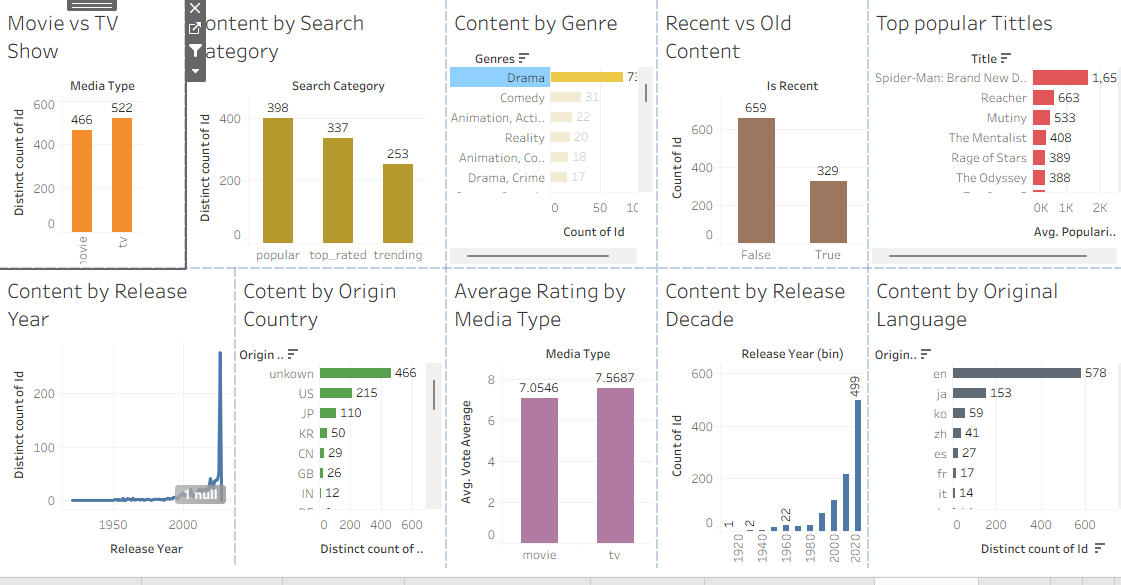

What the dashboard file says about the page in this screenshot:
{"tool":"tableau","page":{"name":"Dashboard 1","canvas":[1000,1000],"units":"permille","ordinal":0},"visuals":[{"type":"worksheet","title":"Movie vs TV Show","mark":"Automatic","rows":["id"],"cols":["media_type"],"box":[6.9,13.7,160.9,458.9]},{"type":"worksheet","title":"Content by Search Category","mark":"Automatic","rows":["id"],"cols":["search_category"],"box":[167.8,13.7,225.8,458.9]},{"type":"worksheet","title":"Content by Genre","mark":"Automatic","rows":["genres"],"cols":["id"],"box":[393.6,13.7,183.4,458.9]},{"type":"worksheet","title":"Recent vs Old Content","mark":"Automatic","rows":["id"],"cols":["is_recent"],"box":[577,13.7,182.5,458.9]},{"type":"worksheet","title":"Top popular Tittles","mark":"Automatic","rows":["title"],"cols":["popularity"],"box":[759.5,13.7,233.6,458.9]},{"type":"worksheet","title":"Content by Release Year","mark":"Automatic","rows":["id"],"cols":["release_year"],"box":[6.9,472.6,204.2,513.7]},{"type":"worksheet","title":"Cotent by Origin Country","mark":"Automatic","rows":["origin_country"],"cols":["id"],"box":[211.1,472.6,182.8,513.7]},{"type":"worksheet","title":"Average Rating by Media Type","mark":"Automatic","rows":["vote_average"],"cols":["media_type"],"box":[393.9,472.6,182.8,513.7]},{"type":"worksheet","title":"Content by Release Decade","mark":"Bar","rows":["id"],"cols":["Release Year (bin)"],"box":[576.7,472.6,182.8,513.7]},{"type":"worksheet","title":"Content by Original Language","mark":"Automatic","rows":["original_language"],"cols":["id"],"box":[759.5,472.6,233.6,513.7]}]}

Visuals, with their boxes on the dashboard's canvas, which has no fixed pixel size, in thousandths of its width and height (x1, y1, x2, y2). These are canvas units, not pixel positions in the 1121x585 screenshot, which may show the page scaled, cropped or inside an application window:
"Movie vs TV Show" worksheet: region(7, 14, 168, 473)
"Content by Search Category" worksheet: region(168, 14, 394, 473)
"Content by Genre" worksheet: region(394, 14, 577, 473)
"Recent vs Old Content" worksheet: region(577, 14, 760, 473)
"Top popular Tittles" worksheet: region(760, 14, 993, 473)
"Content by Release Year" worksheet: region(7, 473, 211, 986)
"Cotent by Origin Country" worksheet: region(211, 473, 394, 986)
"Average Rating by Media Type" worksheet: region(394, 473, 577, 986)
"Content by Release Decade" worksheet (Bar marks): region(577, 473, 760, 986)
"Content by Original Language" worksheet: region(760, 473, 993, 986)
